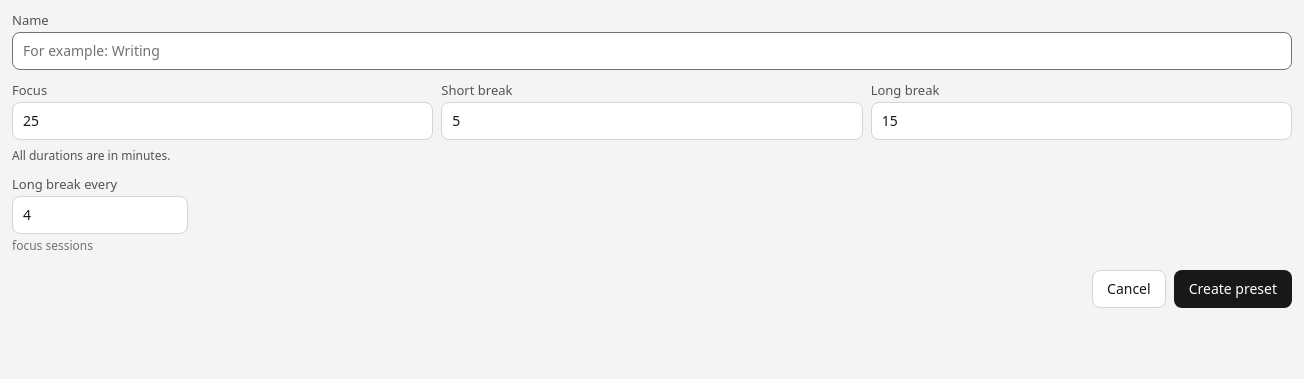
PresetForm › keeps the dialog open and explains a failed save
Type "Sprint" into the field labelled "Name". click: (652, 51)
box: 12,32 -> 1292,70
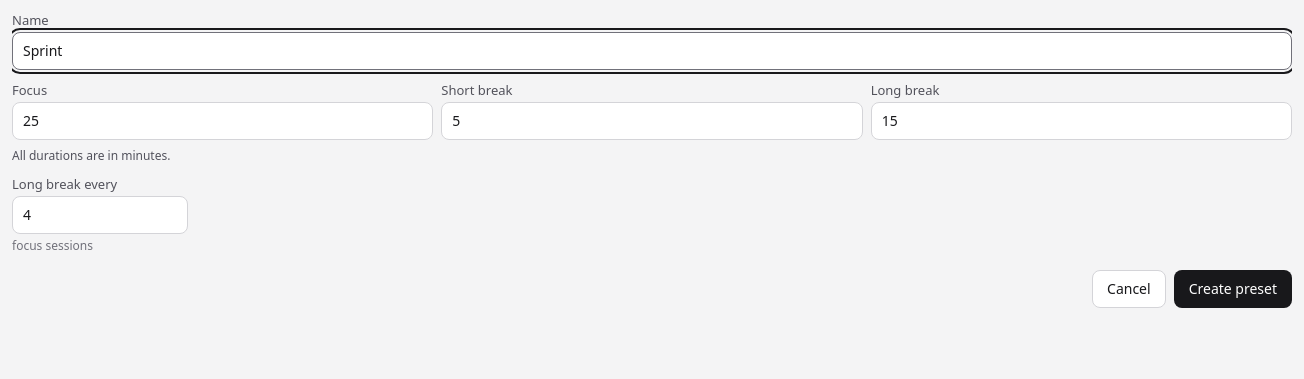
Click the button "Create preset". click: (1233, 289)
box: 1174,270 -> 1292,308
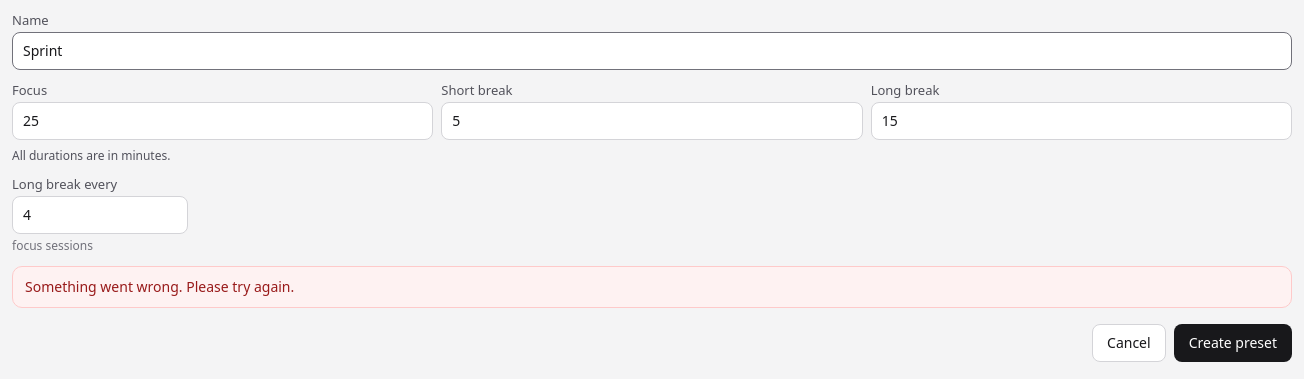
Result: the message "Something went wrong. Please try again." is shown at 12,266 -> 1292,308
